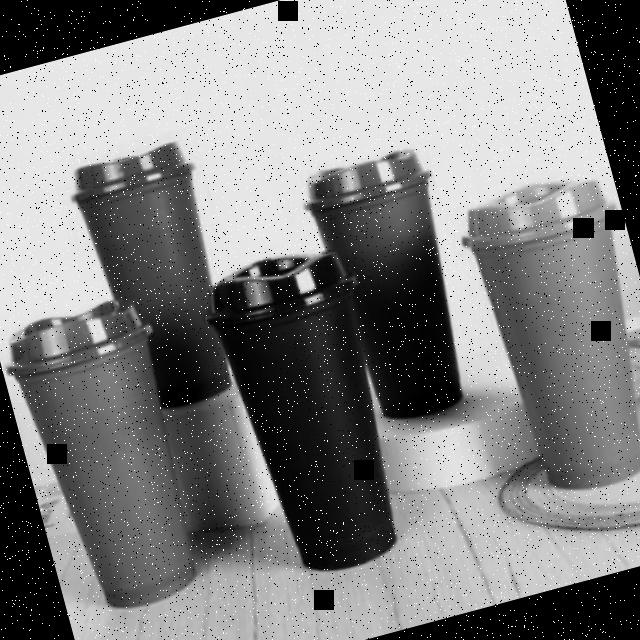plastic_cup: (190, 237, 428, 588), (0, 291, 219, 622), (453, 163, 640, 504), (294, 138, 492, 432), (61, 138, 243, 422)
